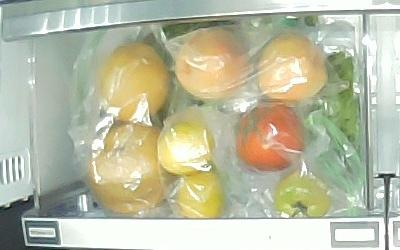peach_vinyl: (174, 27, 250, 101), (257, 33, 329, 102)
pear_vinyl: (84, 124, 174, 216), (94, 42, 170, 122)
tangerine_vinyl: (156, 121, 217, 176), (175, 170, 225, 219)
tomato_vinyl: (235, 102, 305, 173), (273, 172, 330, 217)
